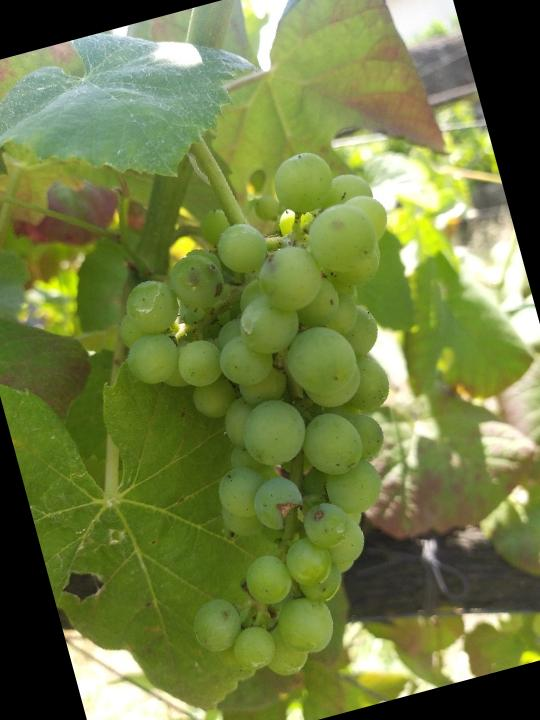grape: (73, 127, 501, 702)
